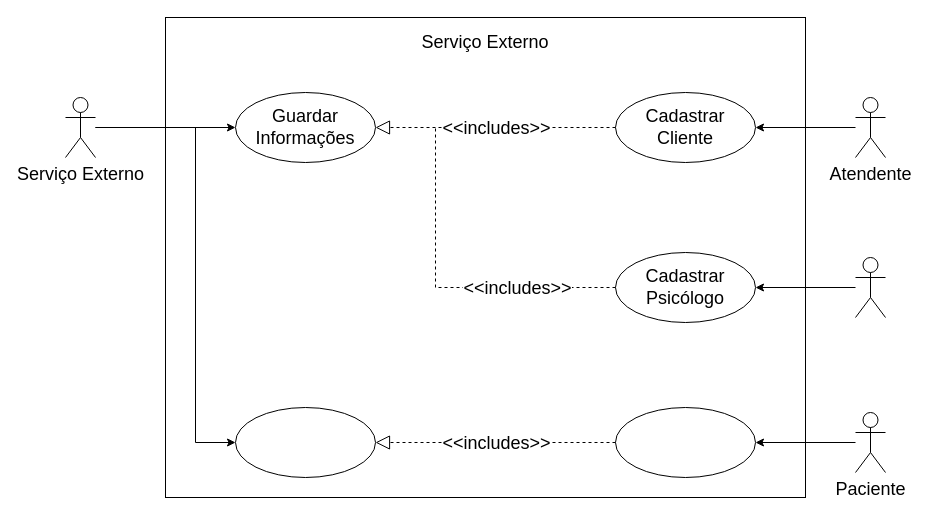
Some shapes in this 943 by 519 pixel diagram are drawn without their labels. Each missing label, with the centre of its shape:
Administrador: [870,287]
Consultar Informações: [685,442]
Enviar e-mail de confirmação: [305,442]
